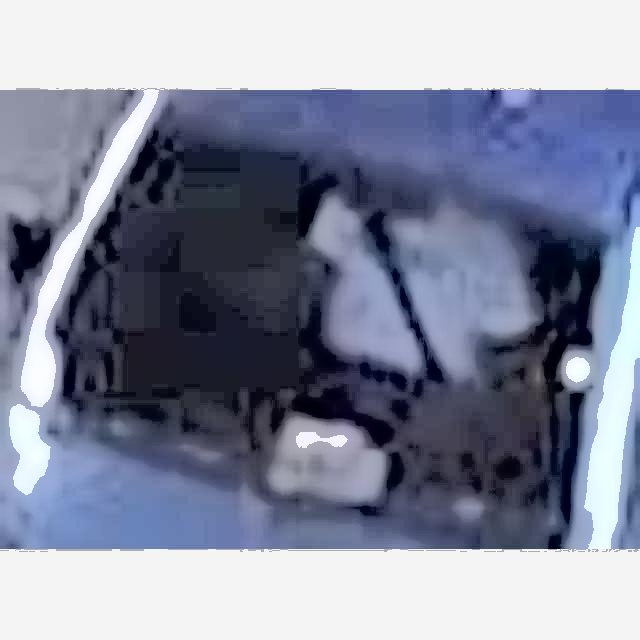pakai: (203, 173, 520, 384)
